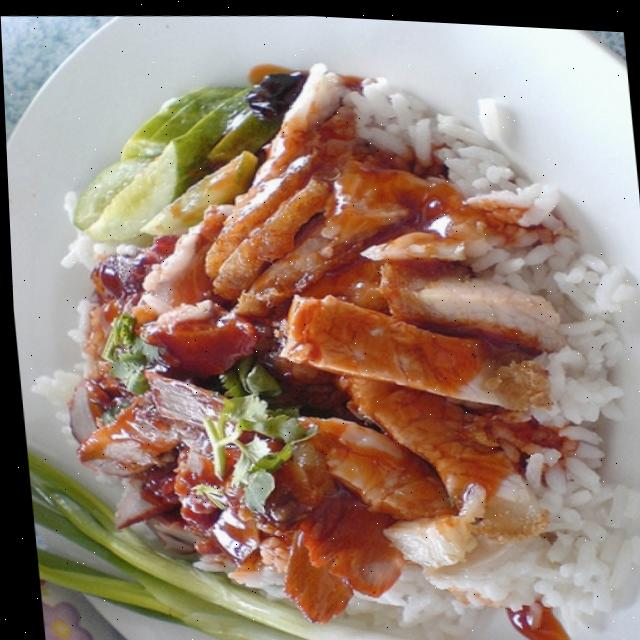猪肉菜式: (34, 48, 640, 611)
